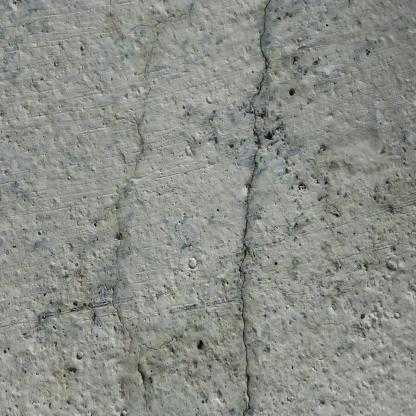crack: (237, 3, 273, 416), (109, 83, 155, 366)
